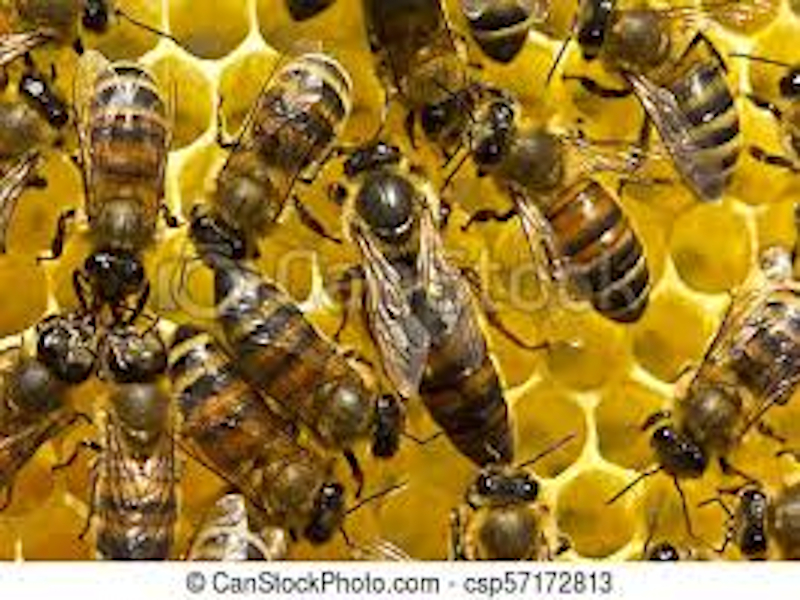abeja: (448, 94, 684, 353), (204, 254, 427, 468), (53, 60, 192, 328), (189, 42, 341, 271), (75, 317, 204, 562)
